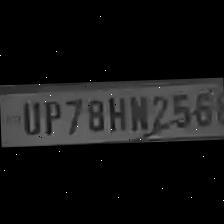2: (148, 92, 170, 132)
5: (169, 90, 191, 130)
6: (190, 88, 214, 128)
7: (61, 96, 84, 136)
8: (82, 94, 106, 133)
H: (104, 93, 126, 133)
N: (126, 92, 148, 132)
P: (38, 96, 62, 136)
U: (15, 99, 39, 136)
